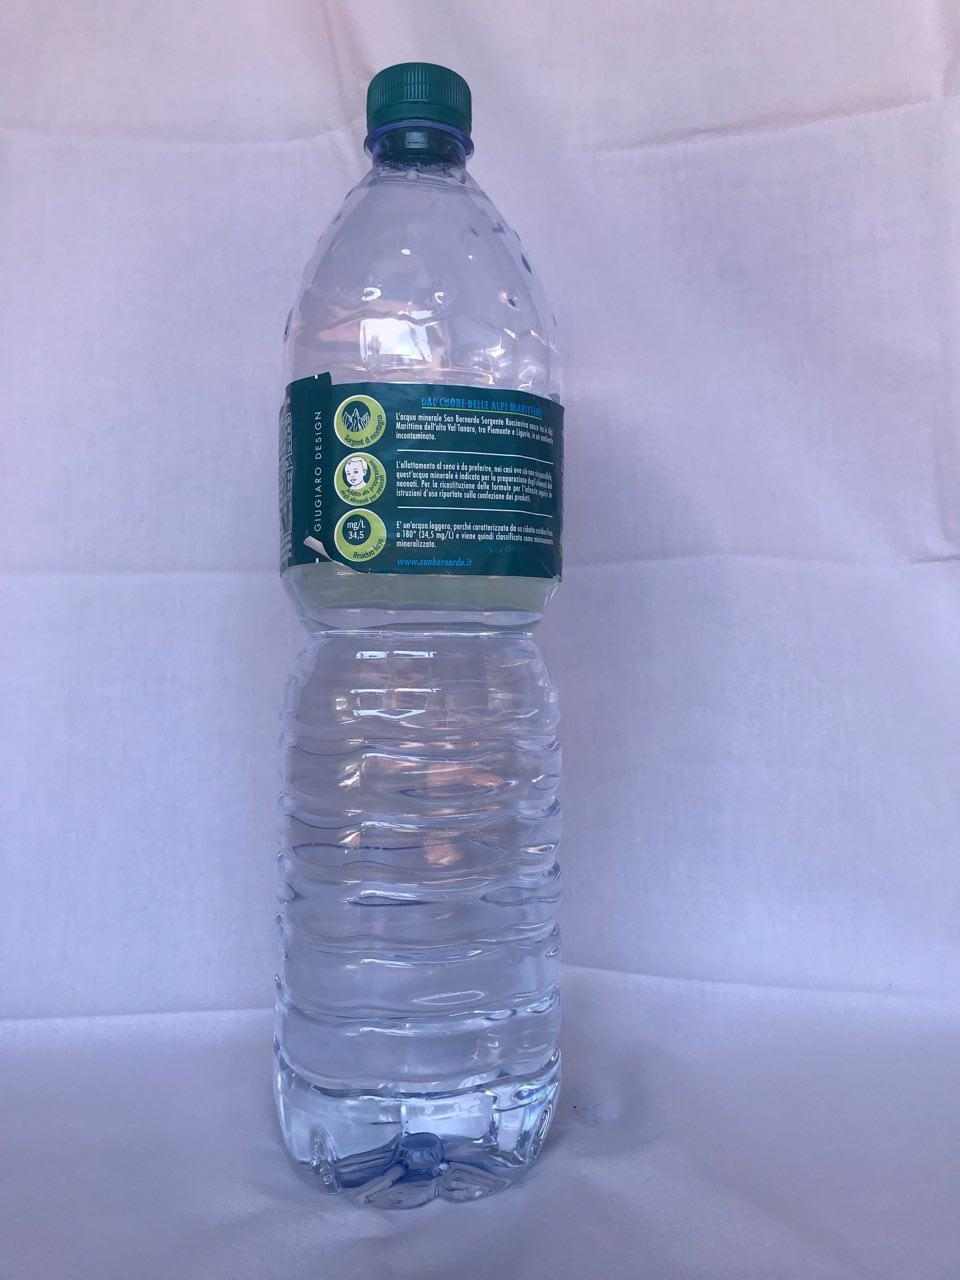san_bernardo: (274, 60, 567, 1210)
